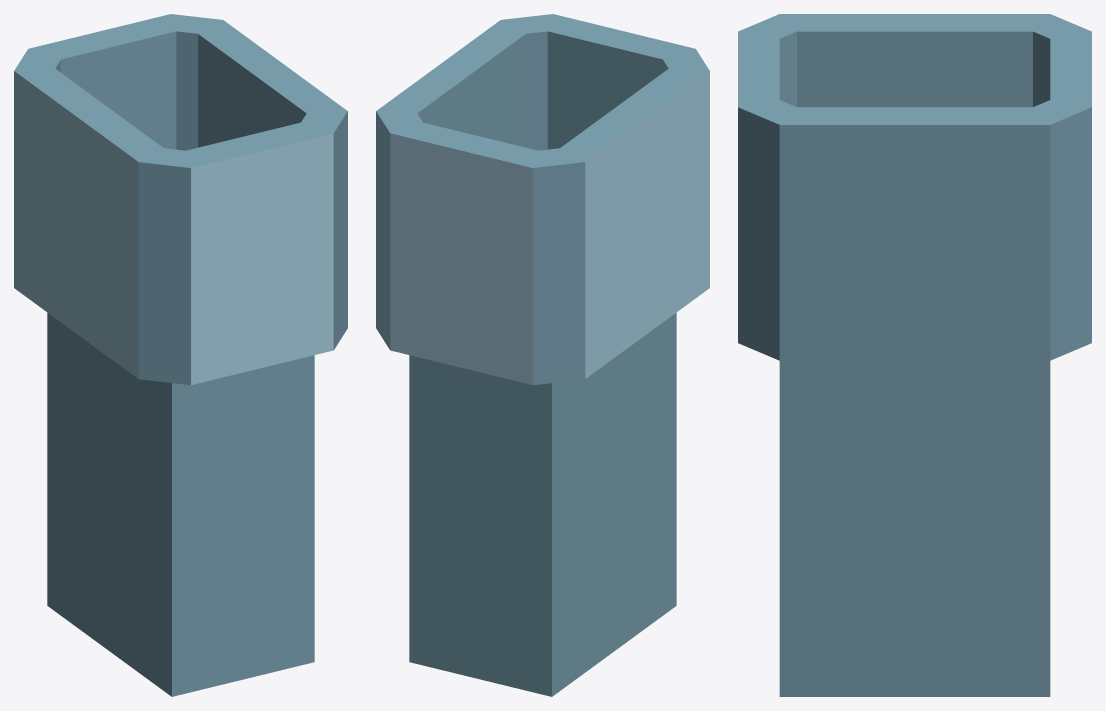
File: chimneyTop.obj
3 views of the same model, side by side, from view 1: azimuth 30°, elevation 25°; view 2: azimuth 150°, elevation 25°; view 3: azimuth 270°, elevation 25° (orthographic). The views are drawn at different scales.
Parts seen in each view (by area): view 1: chimneyTop; view 2: chimneyTop; view 3: chimneyTop.
Boxes of the visible parts, <box> form: chimneyTop: <box>14,14,347,696</box>; chimneyTop: <box>376,14,709,696</box>; chimneyTop: <box>738,14,1091,696</box>.
Bounding box in the file's own units: 0.2519 × 0.625 × 0.34.
